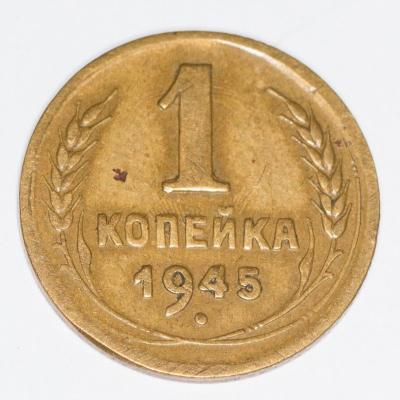numismatics: (20, 32, 380, 377)
